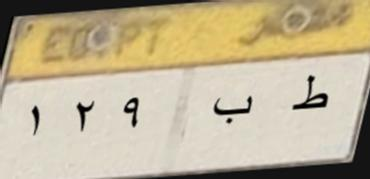1: (24, 101, 50, 148)
2: (72, 97, 100, 140)
9: (121, 94, 144, 138)
Taa: (286, 66, 334, 121)
baa: (209, 88, 257, 134)
